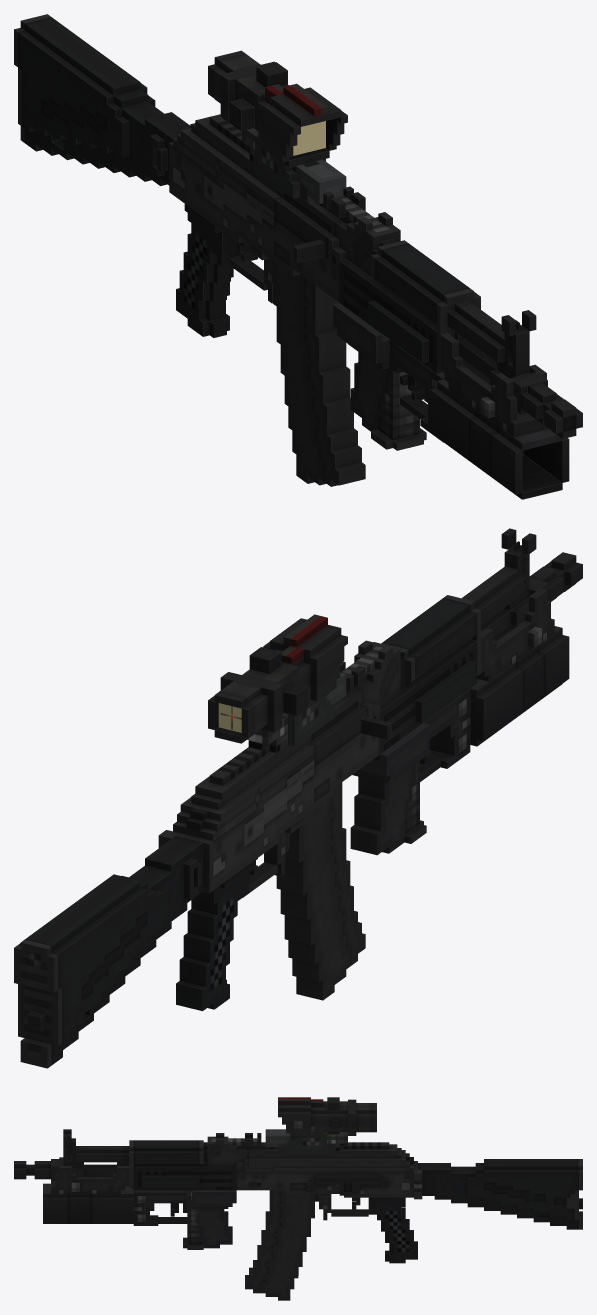
3 views of the same model, one above another, from view 1: azimuth 30°, elevation 25°; view 2: azimuth 150°, elevation 25°; view 3: azimuth 270°, elevation 25° (orthographic). The views are drawn at different scales.
Parts seen in each view (by area): view 1: AK102, GP_GP30, AK102_CLIP, SCOPE_ACOG, SCOPE_EOTECH, GRIP1; view 2: AK102, GP_GP30, AK102_CLIP, SCOPE_ACOG, SCOPE_EOTECH, GRIP1, SCOPE_AIMPOINT; view 3: AK102, GP_GP30, AK102_CLIP, SCOPE_ACOG, SCOPE_EOTECH, GRIP1, SCOPE_AIMPOINT.
Boxes of the visible parts, bbox=[...] form: AK102: bbox=[14, 14, 582, 438]; GP_GP30: bbox=[333, 303, 569, 499]; AK102_CLIP: bbox=[273, 261, 365, 486]; SCOPE_ACOG: bbox=[208, 50, 347, 202]; SCOPE_EOTECH: bbox=[254, 131, 346, 203]; GRIP1: bbox=[371, 335, 426, 450]; AK102: bbox=[14, 528, 582, 1068]; GP_GP30: bbox=[350, 588, 569, 855]; AK102_CLIP: bbox=[276, 782, 365, 1000]; SCOPE_ACOG: bbox=[208, 614, 347, 743]; SCOPE_EOTECH: bbox=[282, 672, 346, 746]; GRIP1: bbox=[400, 722, 426, 844]; SCOPE_AIMPOINT: bbox=[247, 686, 310, 753]; AK102: bbox=[14, 1129, 582, 1263]; GP_GP30: bbox=[43, 1157, 236, 1248]; AK102_CLIP: bbox=[245, 1190, 318, 1300]; SCOPE_ACOG: bbox=[278, 1097, 376, 1150]; SCOPE_EOTECH: bbox=[265, 1126, 327, 1152]; GRIP1: bbox=[183, 1190, 203, 1249]; SCOPE_AIMPOINT: bbox=[311, 1126, 347, 1150].
Size of the model in its own units: 0.1083 by 0.5217 by 1.36.
Materials: 9 (9 with a texture image).
